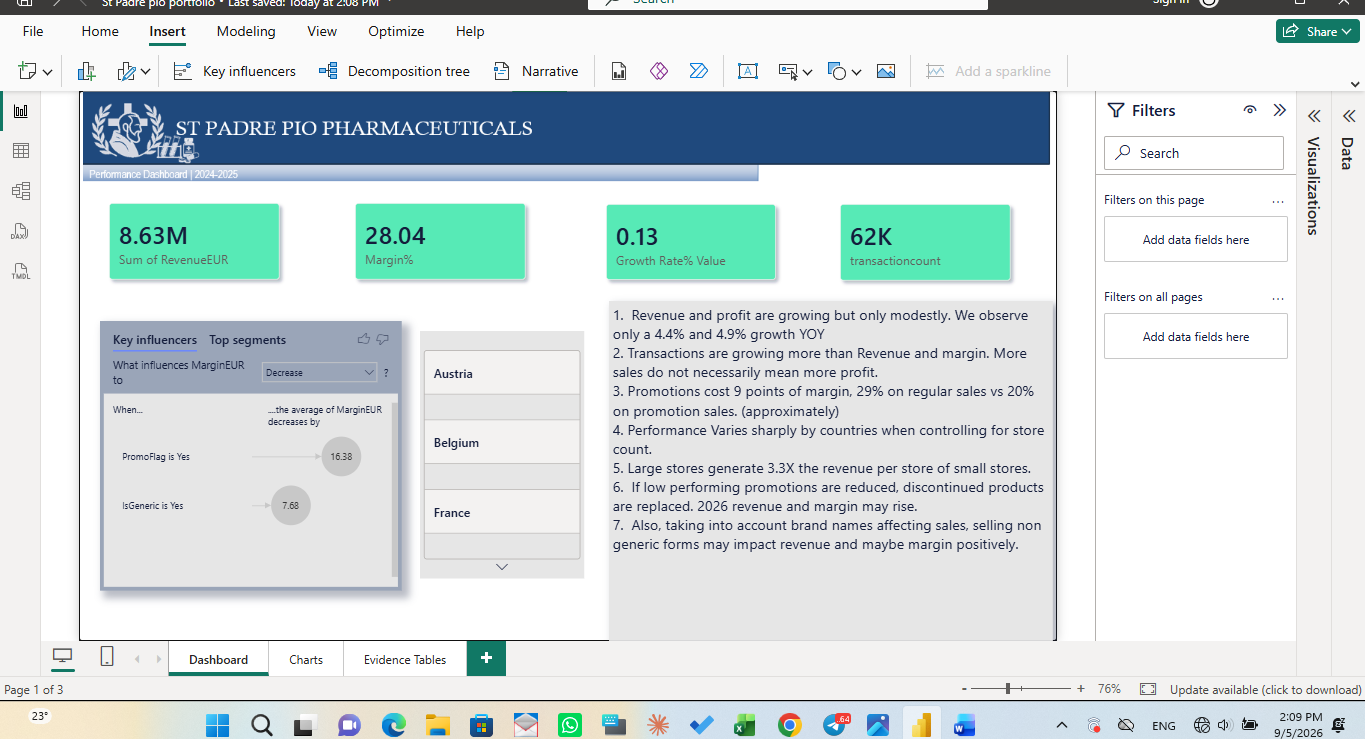

Layout of this report page (visuals, bound fields, positions):
{"tool":"powerbi","page":{"name":"Dashboard","canvas":[1280,720],"ordinal":0},"visuals":[{"type":"cardVisual","fields":{"Data":["Growth Rate%.Growth Rate% Value"]},"box":[693.8,117.6,280.5,157.9],"z":0},{"type":"cardVisual","fields":{"Data":["DimDate.Margin%"]},"box":[332.6,117.6,281,158],"z":1000},{"type":"cardVisual","fields":{"Data":["Sum(FactSales.RevenueEUR)"]},"box":[10.1,117.6,281,158],"z":2000},{"type":"cardVisual","fields":{"Data":["FactSales.transactioncount"]},"box":[974.3,117.6,281,158],"z":3000},{"type":"keyDriversVisual","fields":{"ExplainBy":["FactSales.PromoFlag","DimProduct.IsGeneric"],"Target":["FactSales.MarginEUR"]},"box":[26.9,300.7,394.8,352.8],"z":4000},{"type":"cardVisual","fields":{"Rows":["DimPharmacy.Country"]},"box":[446.8,314.1,215,324.2],"z":5000},{"type":"image","box":[5,0,1269.9,117.6],"z":5001},{"type":"textbox","box":[693.8,275.5,581.2,445.1],"z":5002}]}

Visuals, with their boxes on the page's 1280x720 design canvas (x1, y1, x2, y2). These are canvas units, not pixel positions in the 1365x739 screenshot, which may show the page scaled, cropped or inside an application window:
cardVisual - Growth Rate%.Growth Rate% Value: Rect(694, 118, 974, 276)
cardVisual - DimDate.Margin%: Rect(333, 118, 614, 276)
cardVisual - Sum(FactSales.RevenueEUR): Rect(10, 118, 291, 276)
cardVisual - FactSales.transactioncount: Rect(974, 118, 1255, 276)
keyDriversVisual - FactSales.PromoFlag x DimProduct.IsGeneric: Rect(27, 301, 422, 654)
cardVisual - DimPharmacy.Country: Rect(447, 314, 662, 638)
image: Rect(5, 0, 1275, 118)
textbox: Rect(694, 276, 1275, 721)
